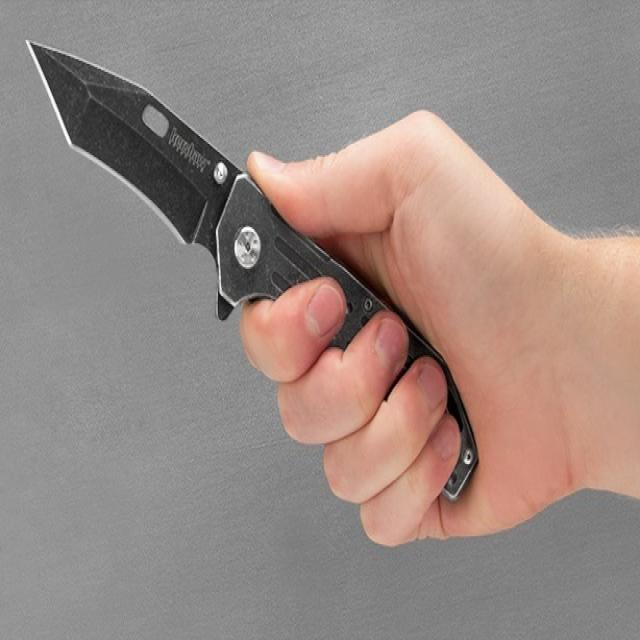knife: (26, 24, 262, 300)
